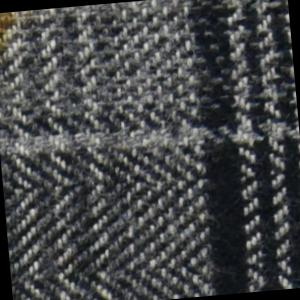Oil Stain: (1, 11, 38, 76)
